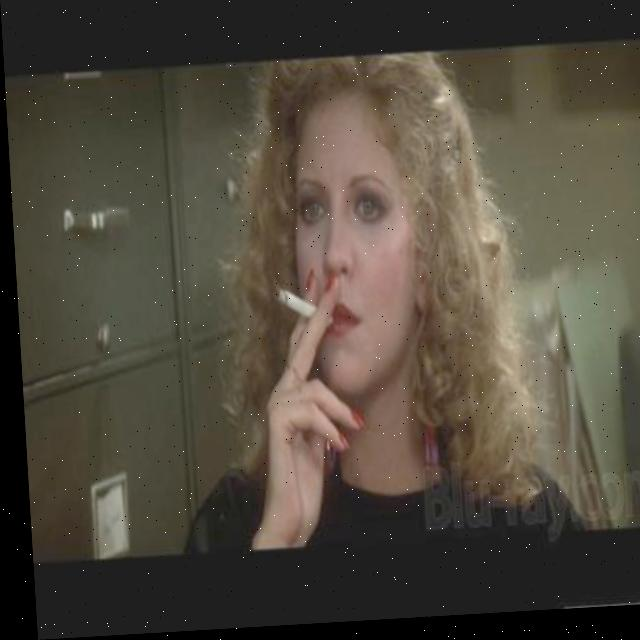cigarette: (272, 288, 314, 330)
